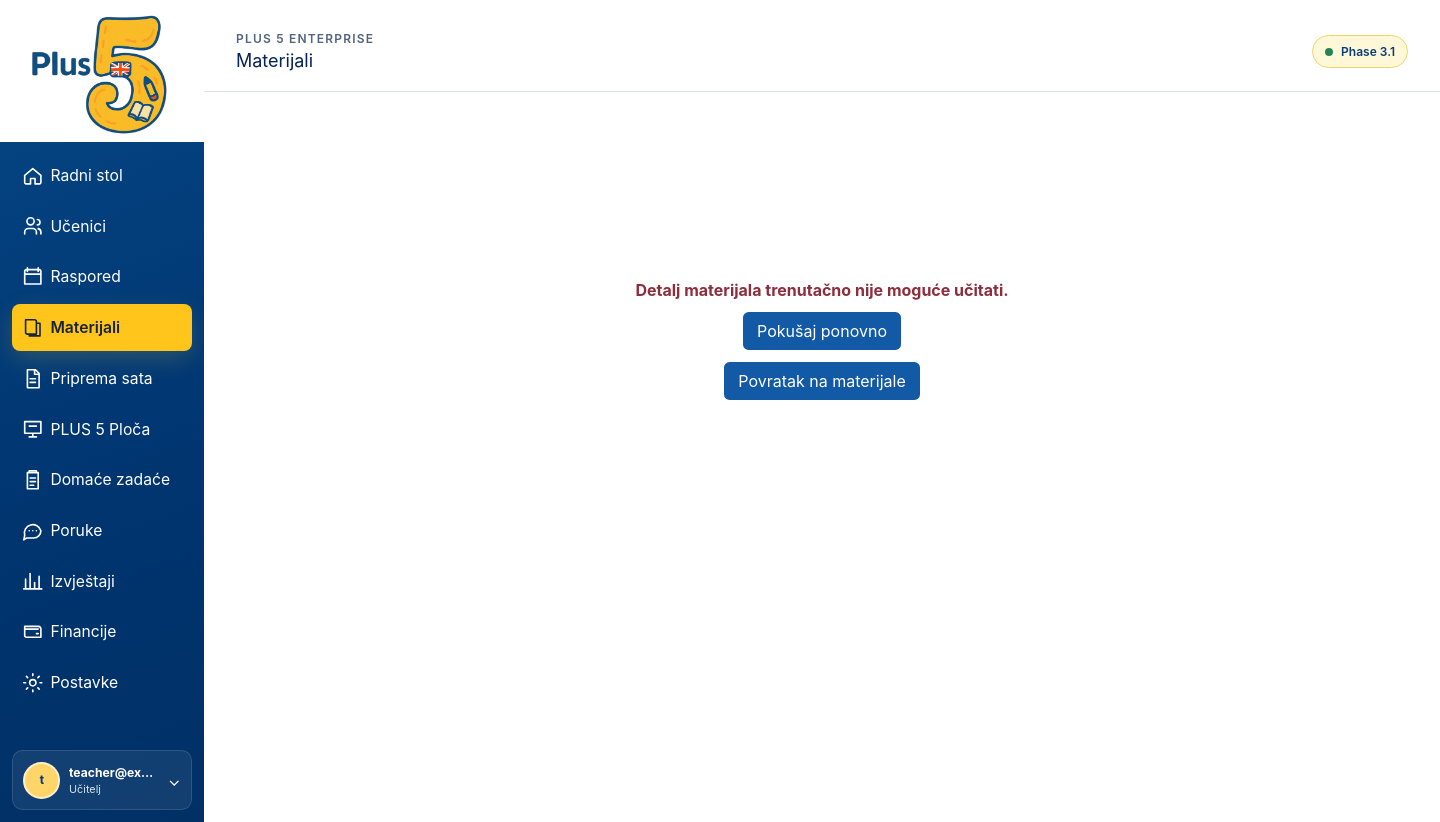
Test: material detail › keeps the detail error recoverable
Click the button "Pokušaj ponovno": [822, 331] box [743, 312, 901, 350]
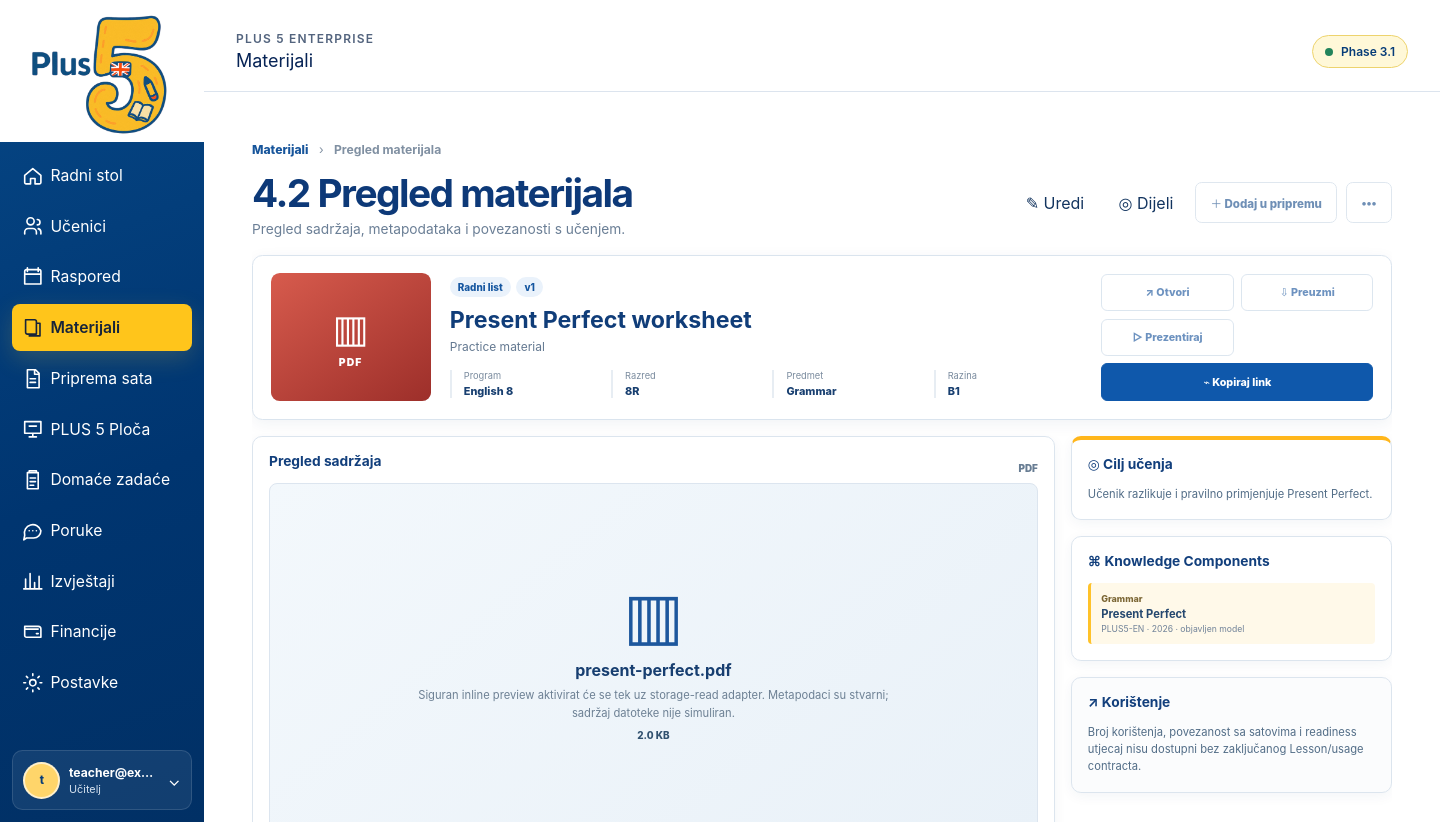
Result: the heading "Present Perfect worksheet" is shown at [450, 306, 752, 334]
